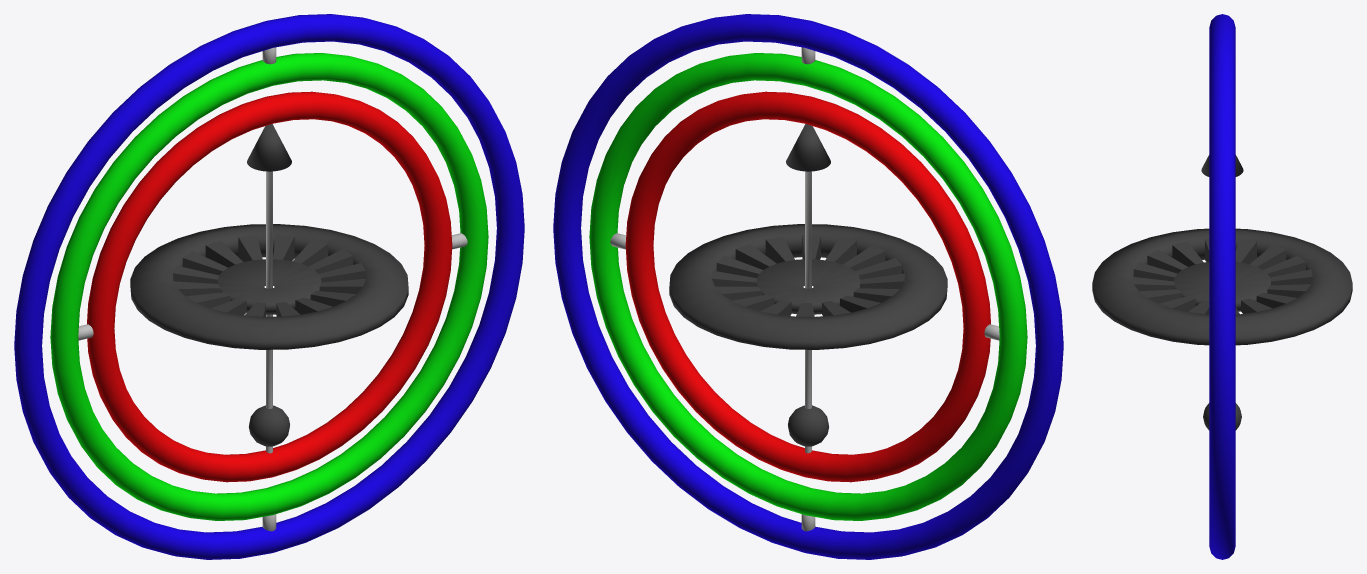
3 renders of one model, left to right at view 1: azimuth 30°, elevation 25°; view 2: azimuth 150°, elevation 25°; view 3: azimuth 270°, elevation 25°, orthographic. The views are drawn at different scales.
Visible parts, largest first — view 1: Frame, External Gimbal, Axis, Internal Gimbal; view 2: Frame, External Gimbal, Axis, Internal Gimbal; view 3: Axis, Frame.
Part boxes in pixels (x1,y1,x2,y2): Frame: [14, 14, 524, 559]; External Gimbal: [50, 53, 488, 520]; Axis: [130, 124, 408, 453]; Internal Gimbal: [87, 91, 452, 482]; Frame: [553, 14, 1063, 559]; External Gimbal: [589, 53, 1027, 520]; Axis: [669, 124, 947, 453]; Internal Gimbal: [625, 91, 990, 482]; Axis: [1092, 155, 1352, 430]; Frame: [1209, 14, 1235, 559].
Size of the model in its own units: 4.2 by 4.2 by 2.
